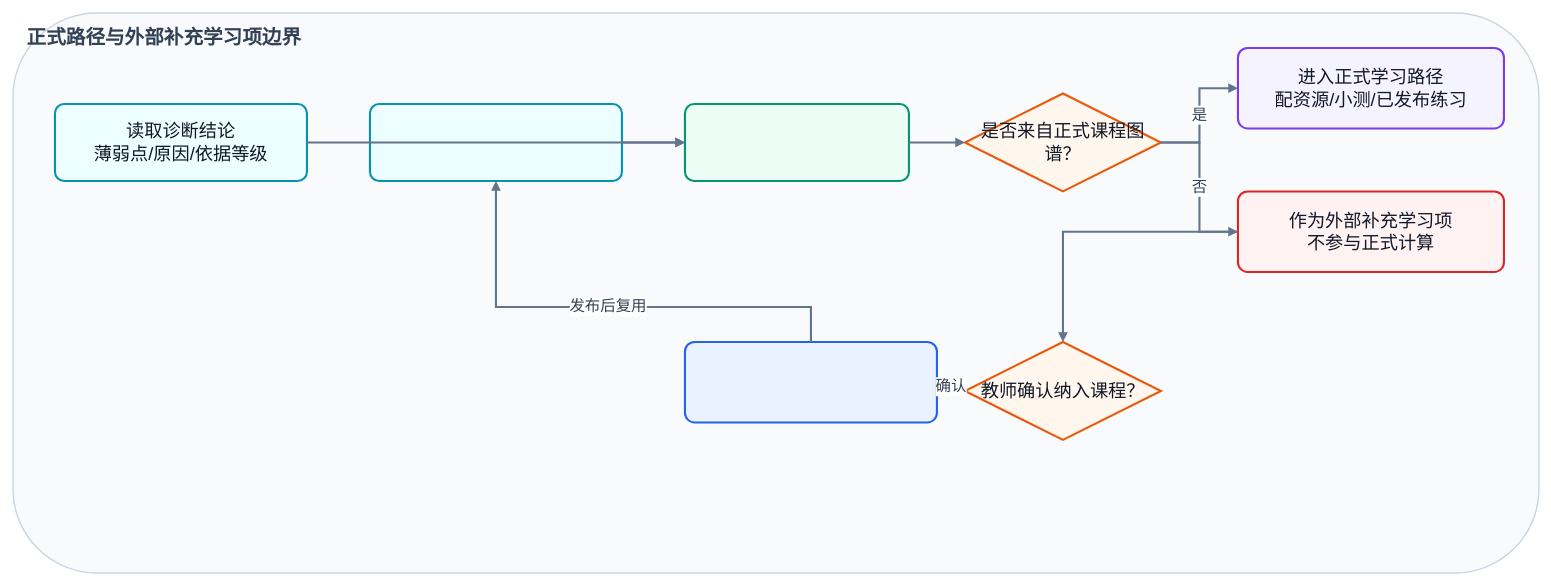
Some shapes in this 1551 by 585 pixel diagram are drawn without their labels. The shapes that lost their labels are listed below. From the top down, each one's centre as x and y in pixels, then its label:
At point 496,142: "读取已发布课程图谱 教师要求/能力映射".
At point 797,142: "生成候选补学节点".
At point 811,382: "进入课程图谱草稿 发布后才可转正式节点".
